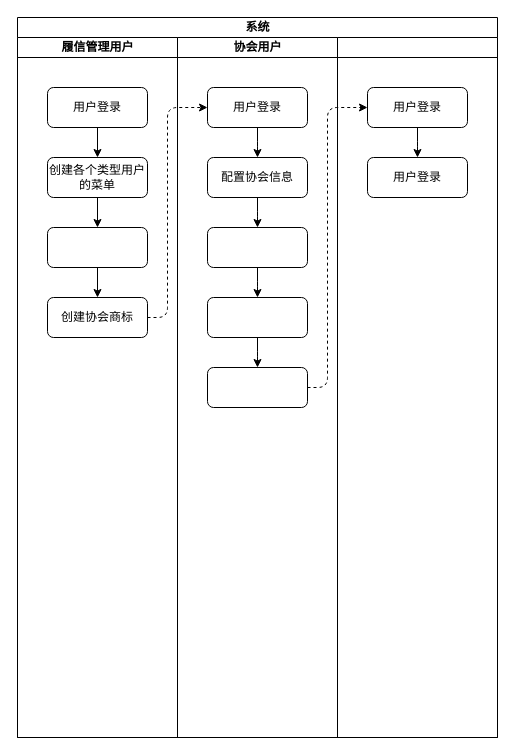
The diagram is 515 pixels wide and 755 high, and some of its shapes have lost their labels. The shapes that lost their labels are listed below. From the top down, each one's box as (x1, y1, x2, y2) in pixels, then its label:
(46, 226, 148, 268): 创建协会用户
(206, 226, 308, 268): 配置溯源码的url
(206, 296, 308, 338): 创建厂商
(206, 366, 308, 408): 生成溯源码 (需选择厂商)
(336, 36, 498, 738): 厂商用户
